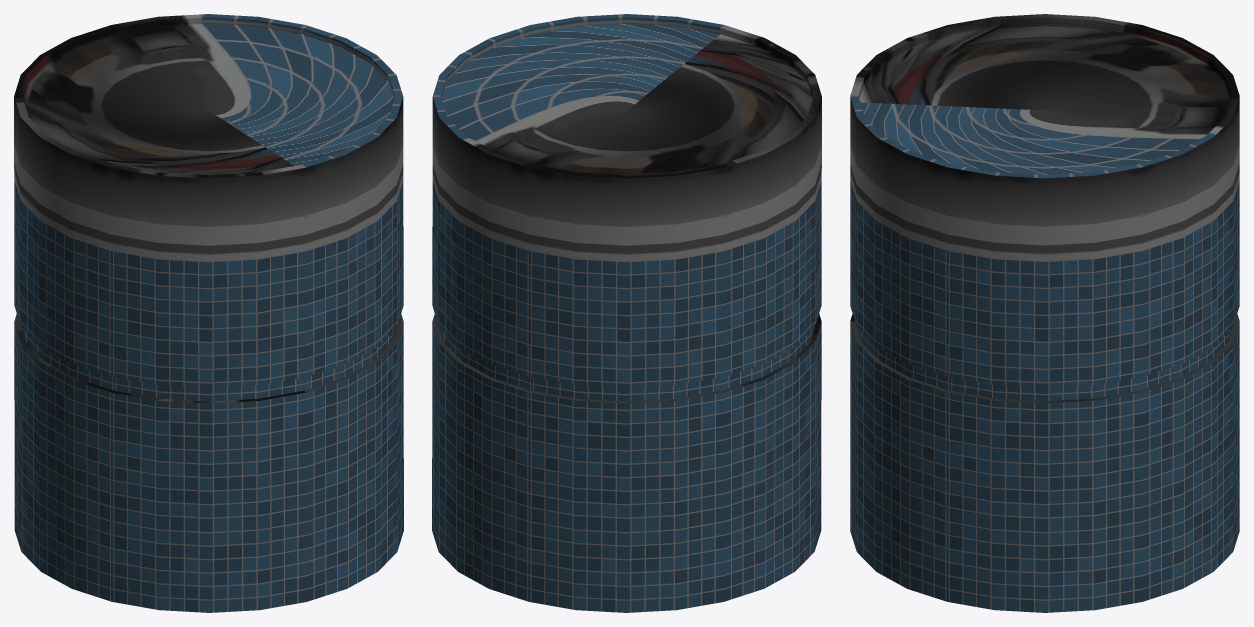
Rendered from tacsat.fbx.
The picture shows the model from 3 angles, left to right: view 1: azimuth 30°, elevation 25°; view 2: azimuth 150°, elevation 25°; view 3: azimuth 270°, elevation 25°; orthographic projection.
Visible parts, largest first — view 1: Body; view 2: Body; view 3: Body.
Boxes of the visible parts, x1,y1,x2,y2 form: Body: (14, 14, 403, 612); Body: (432, 14, 821, 612); Body: (850, 14, 1239, 612).
Size of the model in its own units: 171 by 211 by 171.
1 material, 1 textured.
